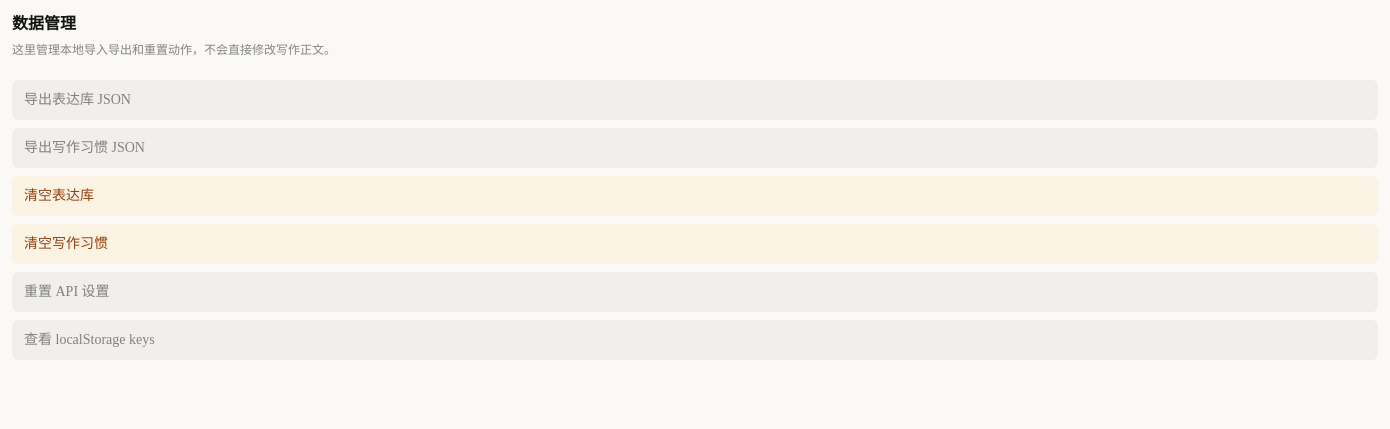
Test: DataControlPanel › clears writing habits only after confirm and shows scoped feedback
The image size is (1390, 429).
Click the button "清空写作习惯" at (66, 244), box [12,224,1378,264]
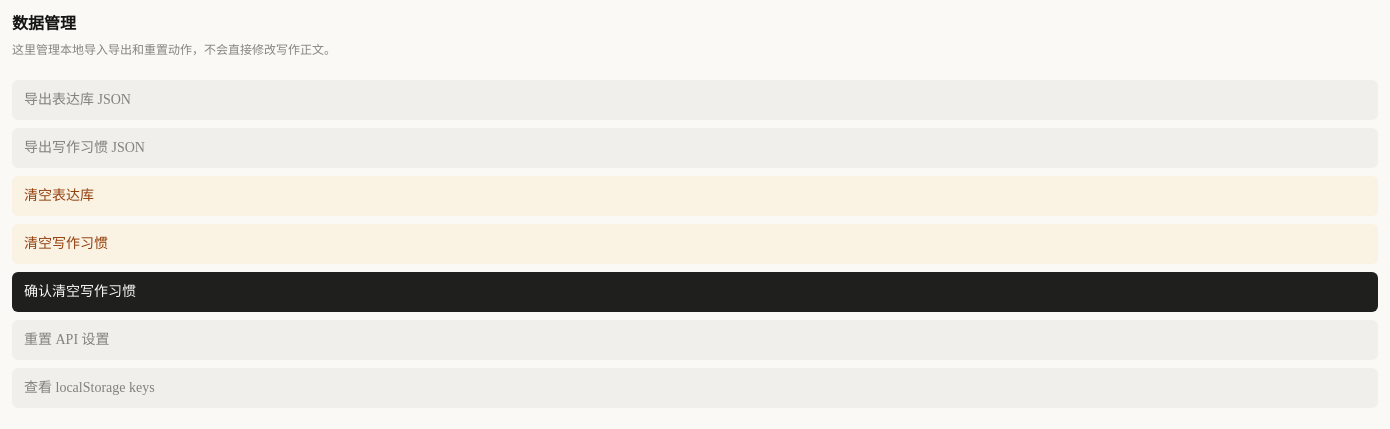
Click the button "确认清空写作习惯" at (80, 292), box [12,272,1378,312]
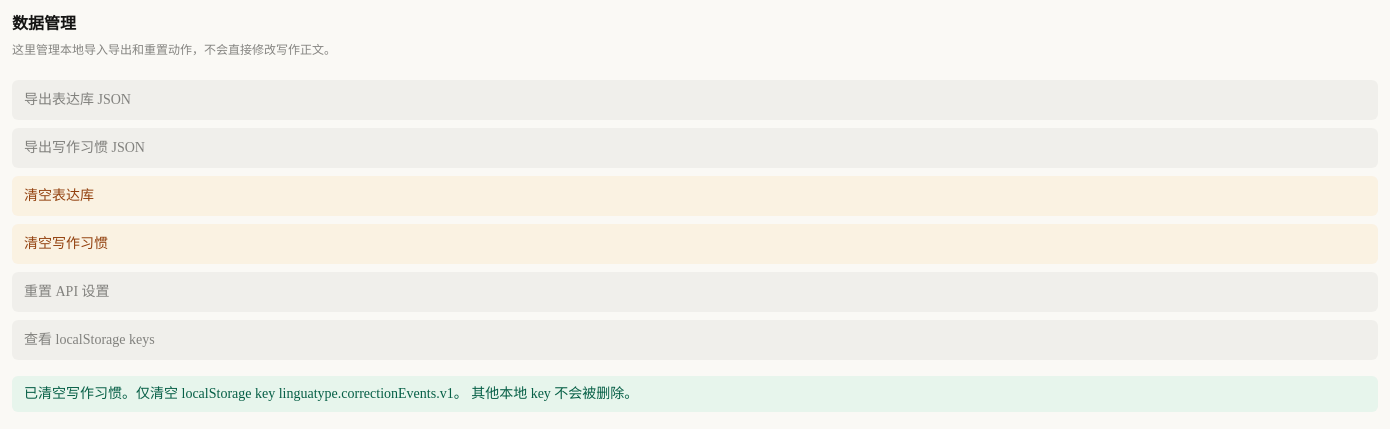
Expected: the message does not show "linguatype.learningLibrary.v1", [12,376,1378,412]
Now the message shows "localStorage key", box [24,386,638,401]
Now the message shows "linguatype.correctionEvents.v1", box [24,386,638,401]
